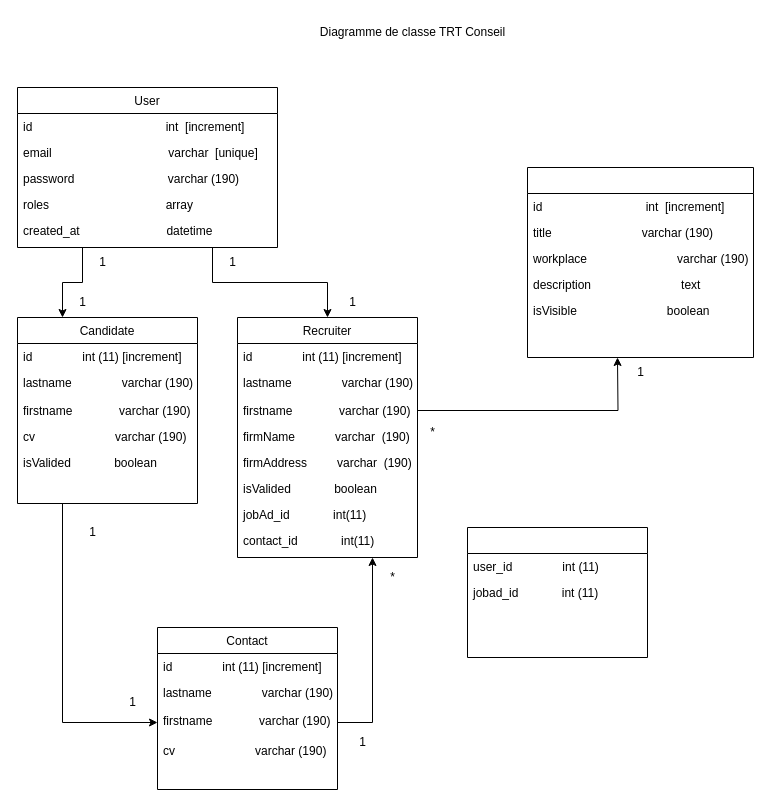
Some shapes in this 771 by 807 pixel diagram are drawn without their labels. Here are the shapes that lost their labels. From the top down, the box of each, then its label:
(526, 166, 754, 358): Job ad
(466, 526, 648, 658): Validation
